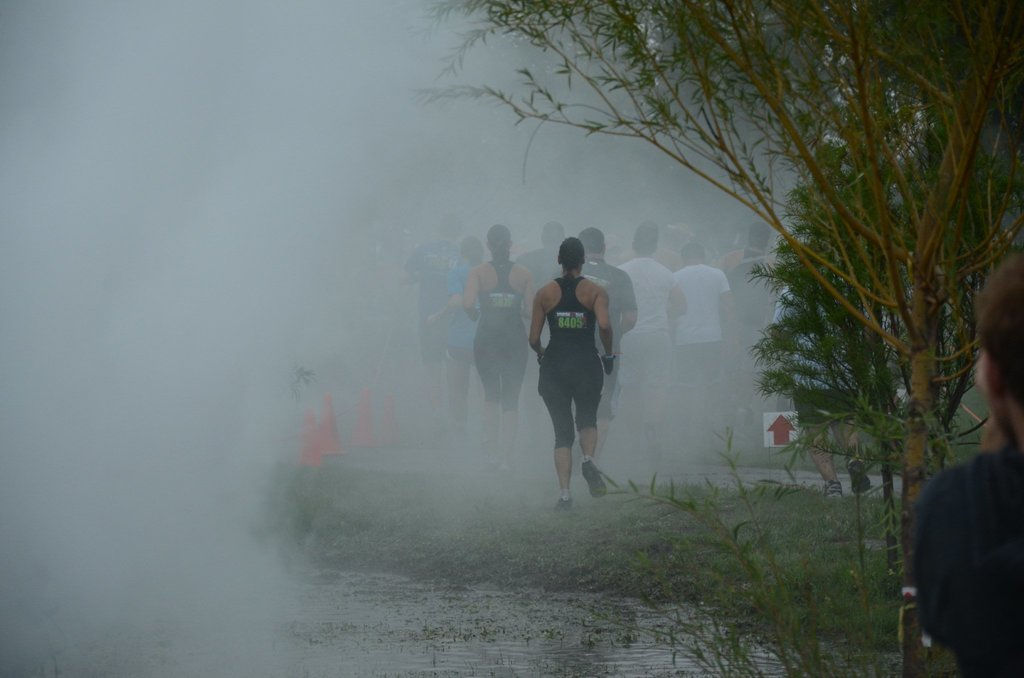Tree: (406, 0, 1023, 677)
